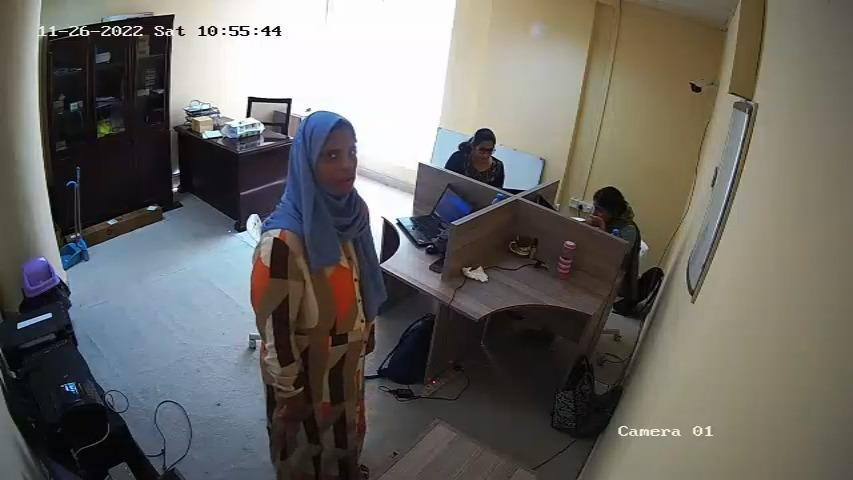no_apron: (268, 217, 369, 397)
